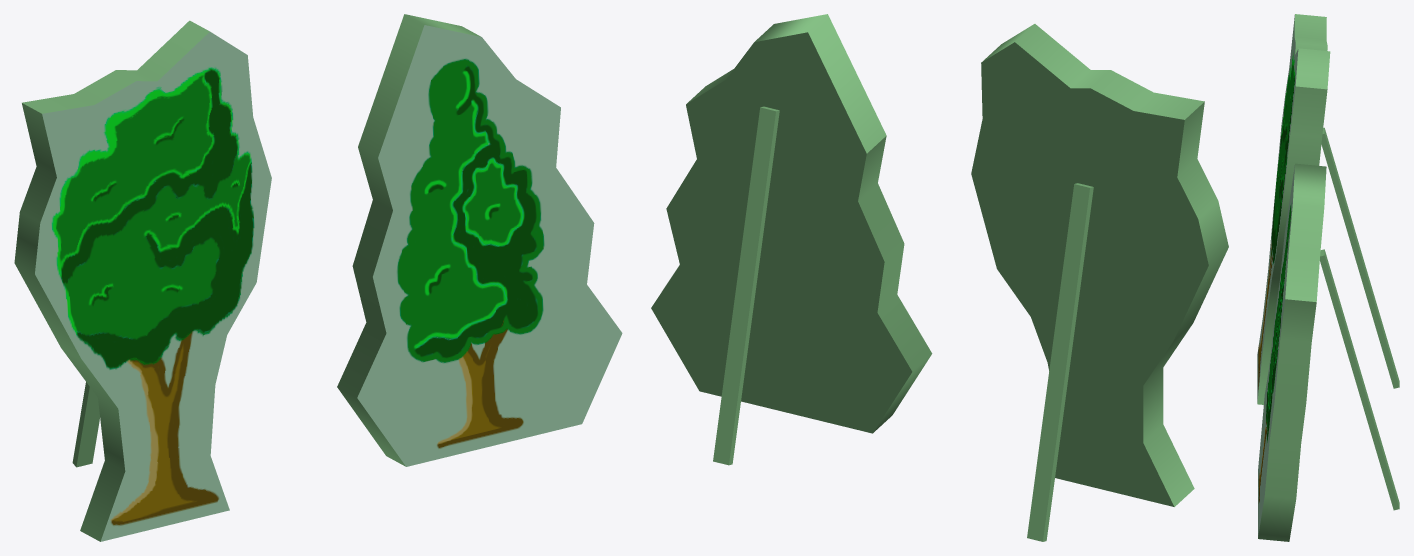
File: Arboles.fbx
The picture shows the model from 3 angles, left to right: view 1: azimuth 30°, elevation 25°; view 2: azimuth 150°, elevation 25°; view 3: azimuth 270°, elevation 25°; orthographic projection. The views are drawn at different scales.
Parts seen in each view (by area): view 1: Object059, Object060; view 2: Object059, Object060; view 3: Object060, Object059.
Boxes of the visible parts, x1,y1,x2,y2 form: Object059: (14,20,271,541); Object060: (337,14,622,466); Object059: (971,24,1228,541); Object060: (651,14,932,465); Object060: (1258,163,1399,541); Object059: (1257,14,1399,404).
Size of the model in its own units: 66.51 by 50.97 by 18.16.
2 materials, 1 textured.
